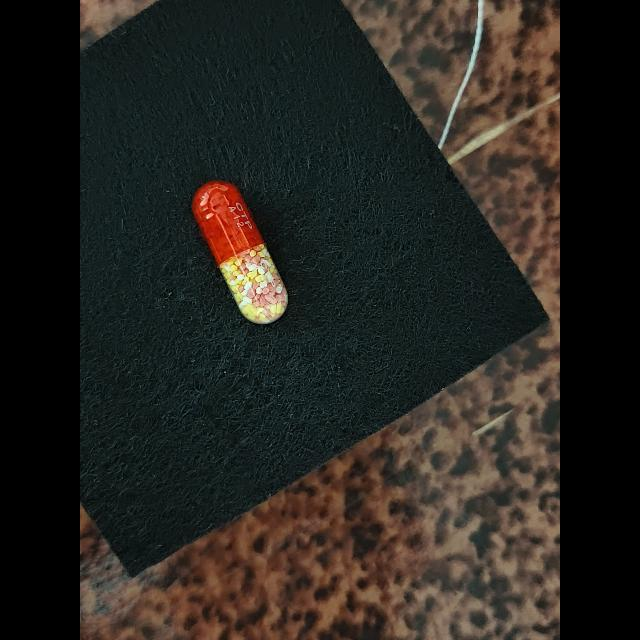Intact Capsule: (192, 181, 288, 324)
